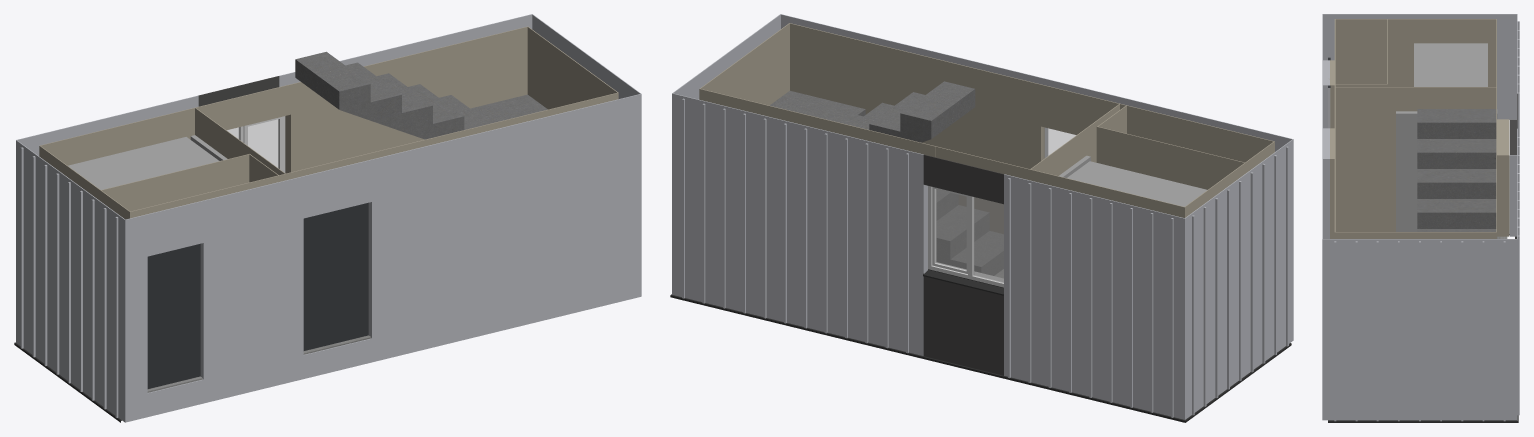
The model's file is Trepikoda_1K_Viimistlus_C.glb.
3 renders of one model, left to right at view 1: azimuth 30°, elevation 25°; view 2: azimuth 150°, elevation 25°; view 3: azimuth 270°, elevation 25°, orthographic. The views are drawn at different scales.
Visible parts, largest first — view 1: Kiudtsementplaat_116, Kiudtsementplaat_117, Uks_044 (×2), UTypeStair013, Fassaadiliistud_004, Box426, Aken_Tava_150; view 2: Kiudtsementplaat_116, Kiudtsementplaat_117, Fassaadiliistud_005, UTypeStair013, Aken_Tava_150, Fassaadiliistud_004, Box426, Veeplekk_elementide_vahel_206; view 3: Kiudtsementplaat_116, Kiudtsementplaat_117, UTypeStair013, Fassaadiliistud_004, Box426, Box425, Fassaadiliistud_005, Veeplekk_elementide_vahel_205.
Part boxes in pixels (left/top/right/bottom): Kiudtsementplaat_116: left=16, top=14, right=641, bottom=422; Kiudtsementplaat_117: left=39, top=26, right=618, bottom=219; Uks_044 (×2): left=147, top=202, right=368, bottom=388; UTypeStair013: left=295, top=51, right=547, bottom=139; Fassaadiliistud_004: left=20, top=147, right=118, bottom=417; Box426: left=68, top=137, right=219, bottom=189; Aken_Tava_150: left=227, top=116, right=285, bottom=172; Kiudtsementplaat_116: left=672, top=14, right=1293, bottom=419; Kiudtsementplaat_117: left=699, top=23, right=1274, bottom=233; Fassaadiliistud_005: left=682, top=98, right=1173, bottom=417; UTypeStair013: left=770, top=81, right=1003, bottom=275; Aken_Tava_150: left=923, top=186, right=1003, bottom=295; Fassaadiliistud_004: left=1192, top=146, right=1288, bottom=415; Box426: left=1067, top=161, right=1206, bottom=206; Veeplekk_elementide_vahel_206: left=670, top=295, right=1185, bottom=422; Kiudtsementplaat_116: left=1322, top=14, right=1517, bottom=420; Kiudtsementplaat_117: left=1329, top=19, right=1509, bottom=238; UTypeStair013: left=1417, top=109, right=1496, bottom=231; Fassaadiliistud_004: left=1334, top=241, right=1505, bottom=421; Box426: left=1414, top=43, right=1487, bottom=86; Box425: left=1396, top=109, right=1497, bottom=238; Fassaadiliistud_005: left=1517, top=21, right=1519, bottom=415; Veeplekk_elementide_vahel_205: left=1328, top=420, right=1518, bottom=422.
Size of the model in its own units: 8.38 by 3.53 by 3.08.
Materials: 11 (2 with a texture image).
